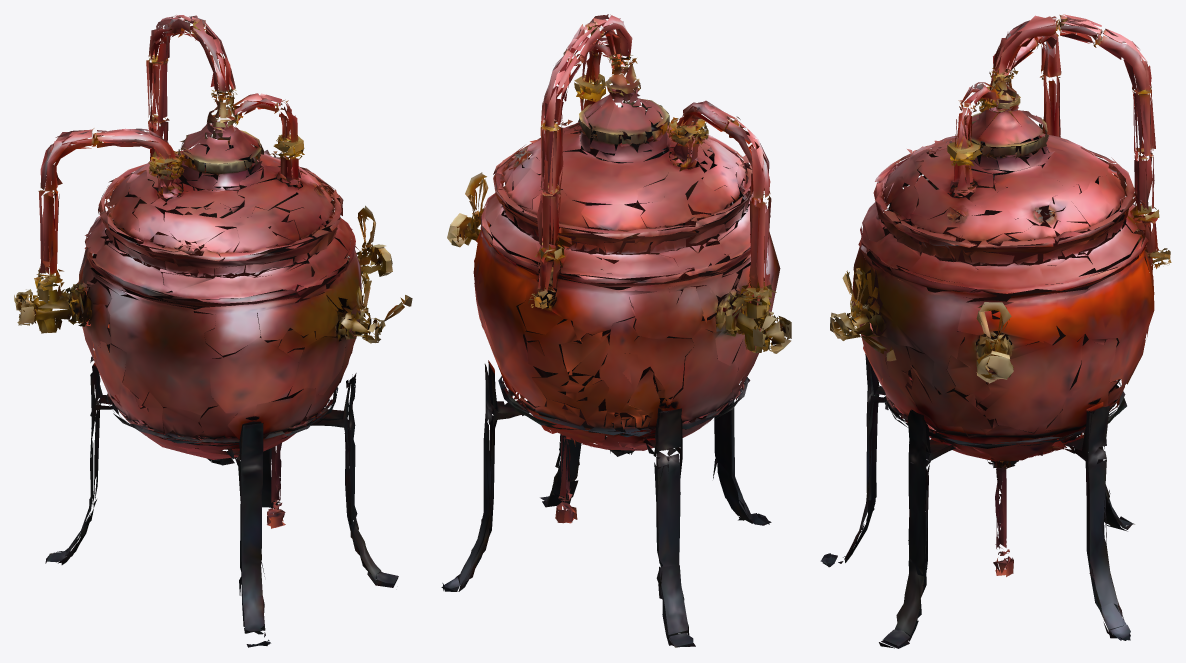
File: copper_still.glb
3 views of the same model, side by side, from view 1: azimuth 30°, elevation 25°; view 2: azimuth 150°, elevation 25°; view 3: azimuth 270°, elevation 25° (orthographic). The views are drawn at different scales.
Parts seen in each view (by area): view 1: copper_still_body; view 2: copper_still_body; view 3: copper_still_body.
Boxes of the visible parts, x1,y1,x2,y2 form: copper_still_body: (14, 15, 412, 647); copper_still_body: (441, 14, 791, 647); copper_still_body: (820, 14, 1171, 648).
Size of the model in its own units: 1.59 by 2.41 by 1.34.
Materials: 1 (1 with a texture image).
